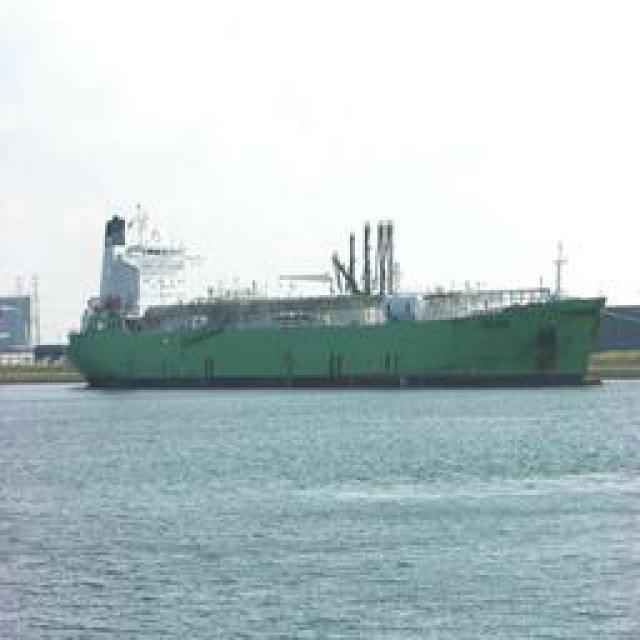Ship: (75, 265, 603, 390)
